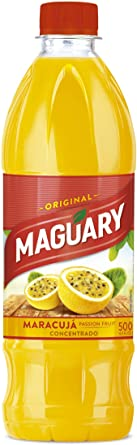maguary: (2, 2, 137, 445)
